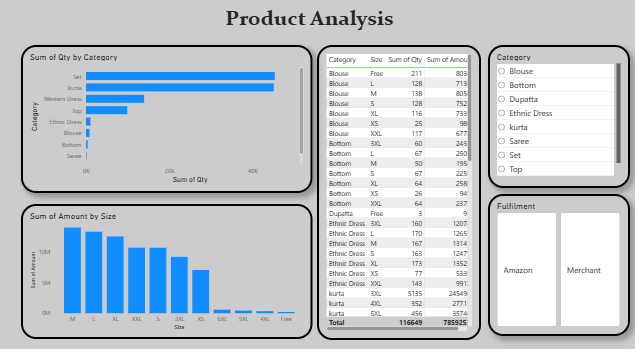

The dashboard page shown, as its layout file describes it:
{"tool":"powerbi","page":{"name":"Product Analysis","canvas":[1280,720],"ordinal":1},"visuals":[{"type":"barChart","fields":{"Category":["Amazon Sale Report.Category"],"Y":["Sum(Amazon Sale Report.Qty)"]},"box":[45.4,97.4,582.9,295.6],"z":0},{"type":"clusteredColumnChart","fields":{"Category":["Amazon Sale Report.Size"],"Y":["Sum(Amazon Sale Report.Amount)"]},"box":[45.4,416.6,582.9,270.4],"z":1},{"type":"tableEx","fields":{"Values":["Amazon Sale Report.Category","Amazon Sale Report.Size","Sum(Amazon Sale Report.Qty)","Sum(Amazon Sale Report.Amount)"]},"box":[638.3,97.4,327.6,589.6],"z":2},{"type":"listSlicer","fields":{"Values":["Amazon Sale Report.Category"]},"box":[981,97.4,283.9,285.6],"z":3},{"type":"advancedSlicerVisual","fields":{"Values":["Amazon Sale Report.Fulfilment"]},"box":[981,396.4,283.9,283.9],"z":4},{"type":"textbox","box":[100.8,11.8,1046.5,68.9],"z":5}]}

Visuals, with their boxes in screenshot pixels (x1, y1, x2, y2), scaled from the page's 1280x720 canvas onto the 635x349 screenshot:
barChart - Amazon Sale Report.Category x Sum(Amazon Sale Report.Qty): 23 47 312 190
clusteredColumnChart - Amazon Sale Report.Size x Sum(Amazon Sale Report.Amount): 23 202 312 333
tableEx - Amazon Sale Report.Category x Amazon Sale Report.Size: 317 47 479 333
listSlicer - Amazon Sale Report.Category: 487 47 628 186
advancedSlicerVisual - Amazon Sale Report.Fulfilment: 487 192 628 330
textbox: 50 6 569 39
